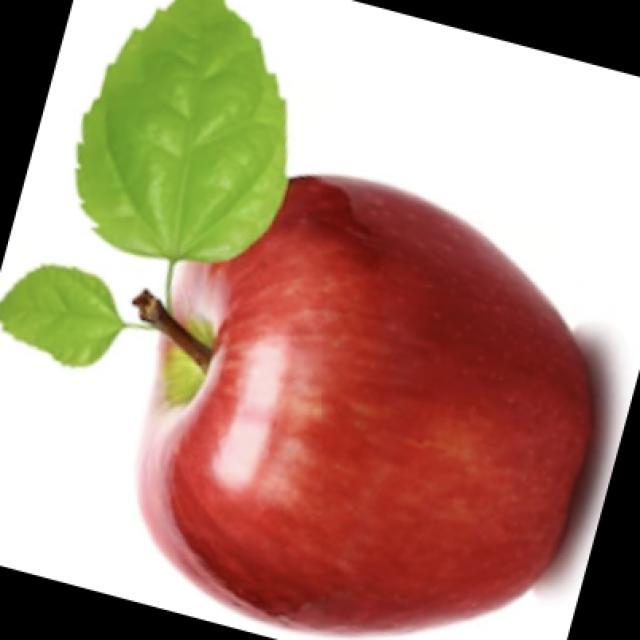Fresh Apple: (133, 165, 640, 640)
